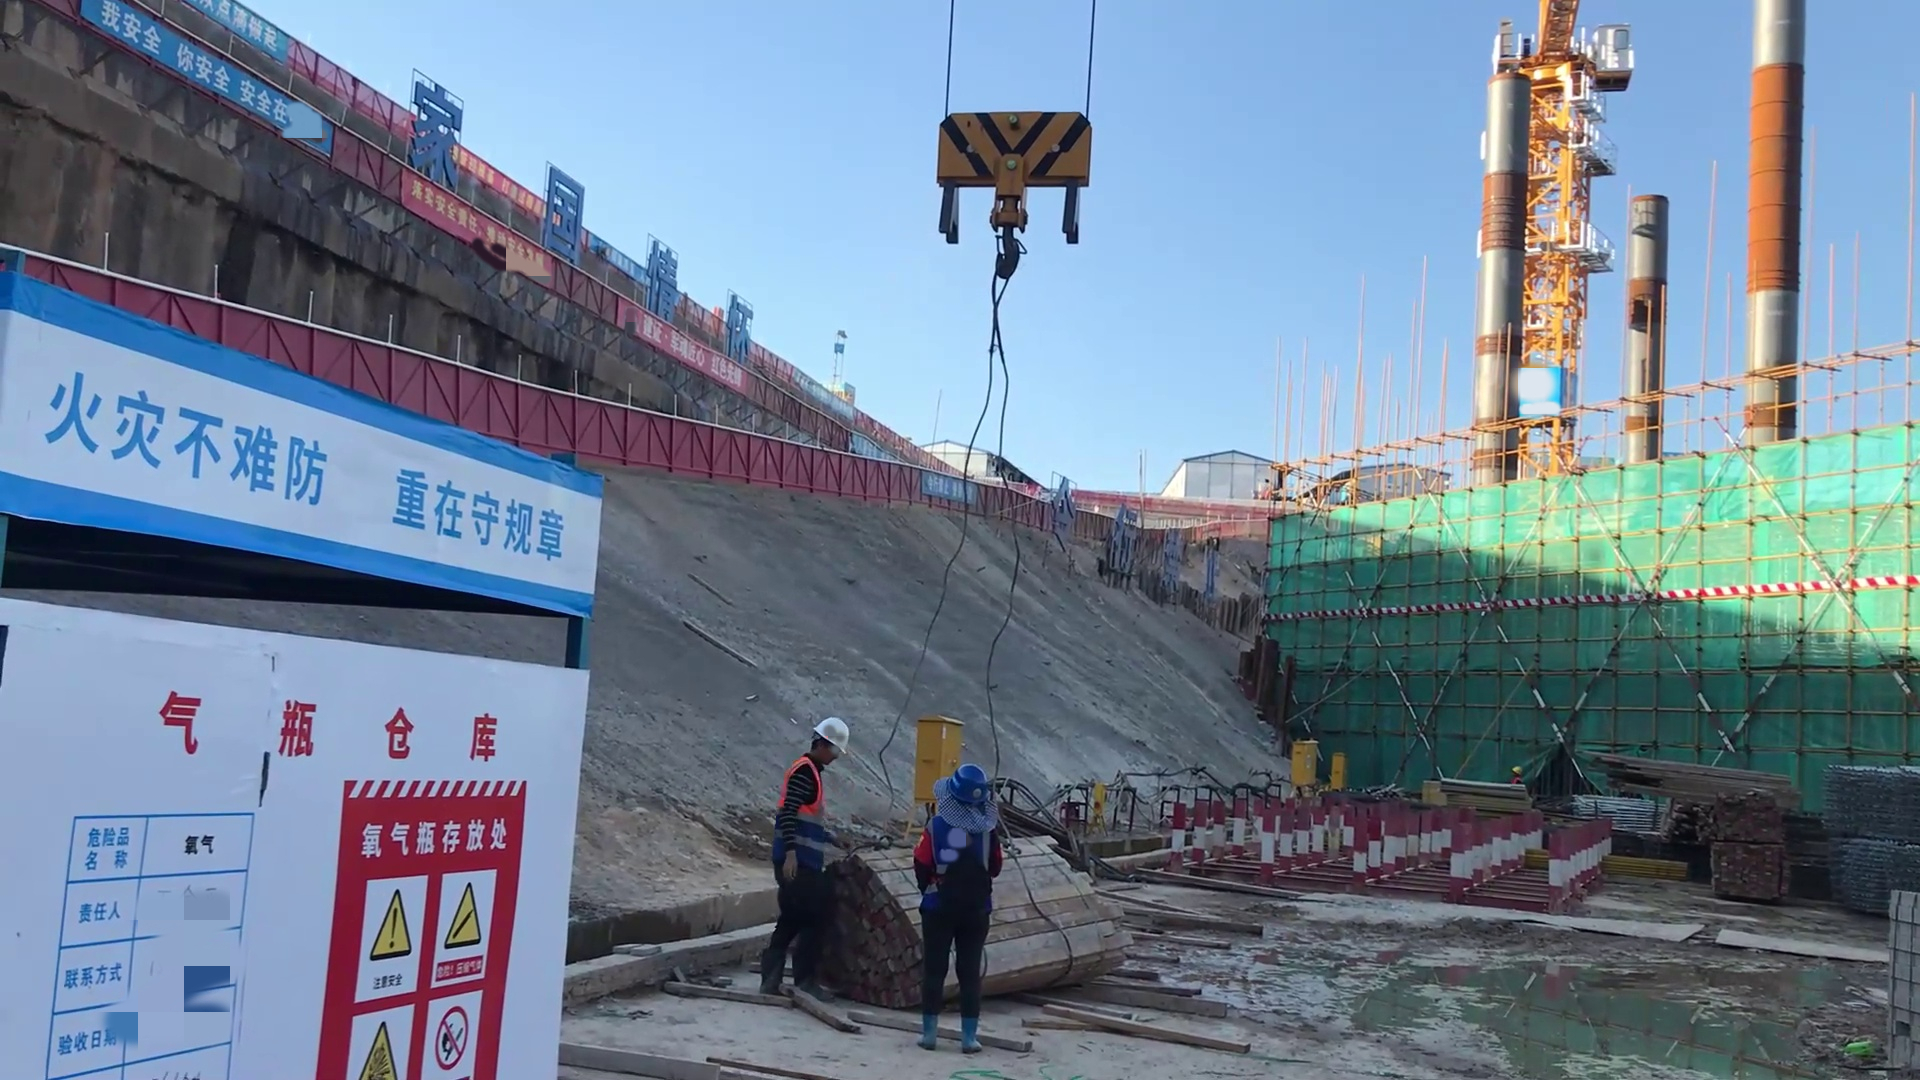brick: (1859, 887, 1920, 1079)
ebox: (906, 705, 969, 804), (1290, 736, 1319, 790), (1323, 746, 1345, 787)
fence: (647, 415, 921, 507)
helmet: (932, 760, 1000, 813), (810, 717, 872, 771), (1508, 766, 1521, 777)
hook: (926, 115, 1095, 265)
person: (913, 764, 1001, 1051), (767, 705, 844, 999), (1507, 761, 1523, 787)
scaffold: (1821, 755, 1920, 852)
slogan: (45, 372, 565, 583), (60, 1, 328, 171), (344, 809, 511, 1080)
vest: (779, 759, 830, 814)
wood: (1123, 872, 1270, 1065), (993, 834, 1130, 998), (1599, 742, 1800, 837)
